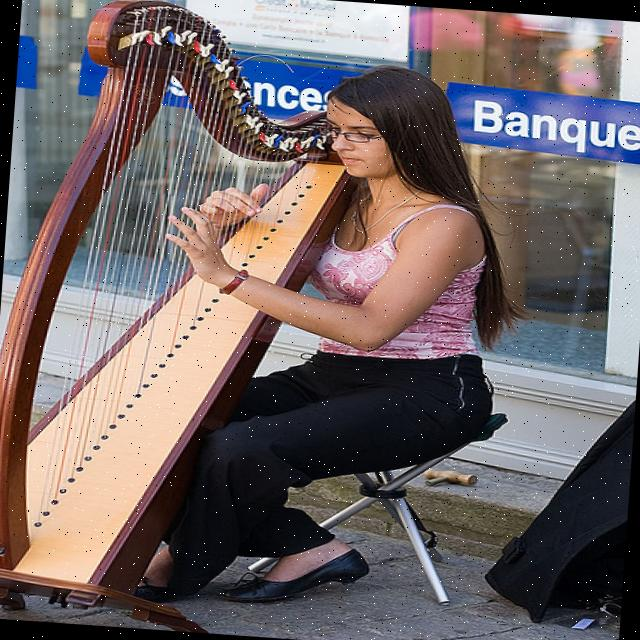harp: (0, 0, 352, 639)
